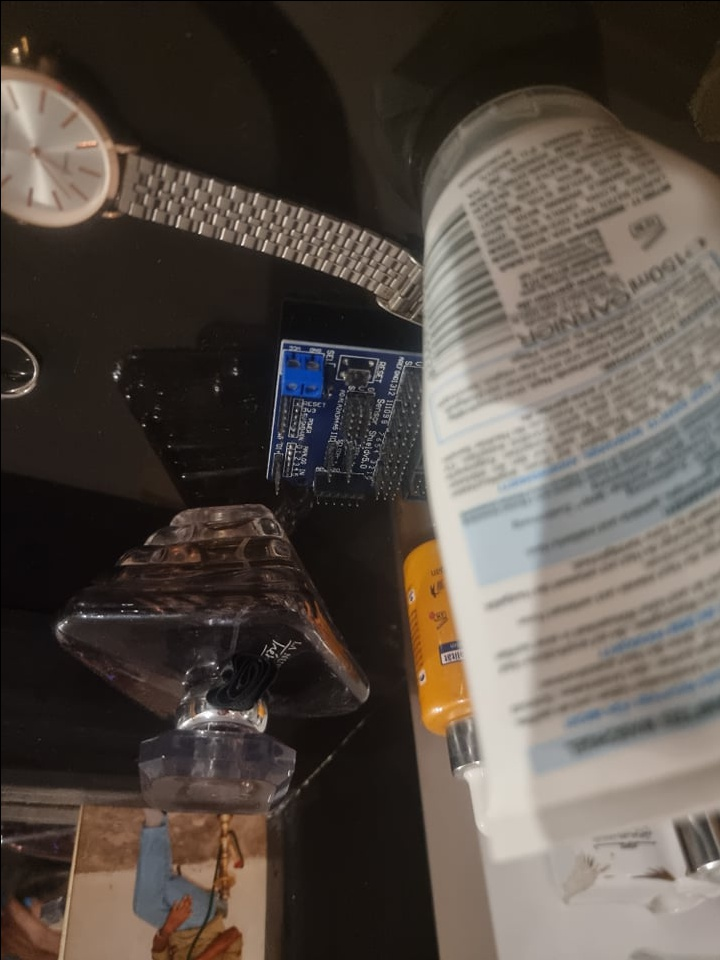5V EXPANSION: (262, 333, 430, 510)
